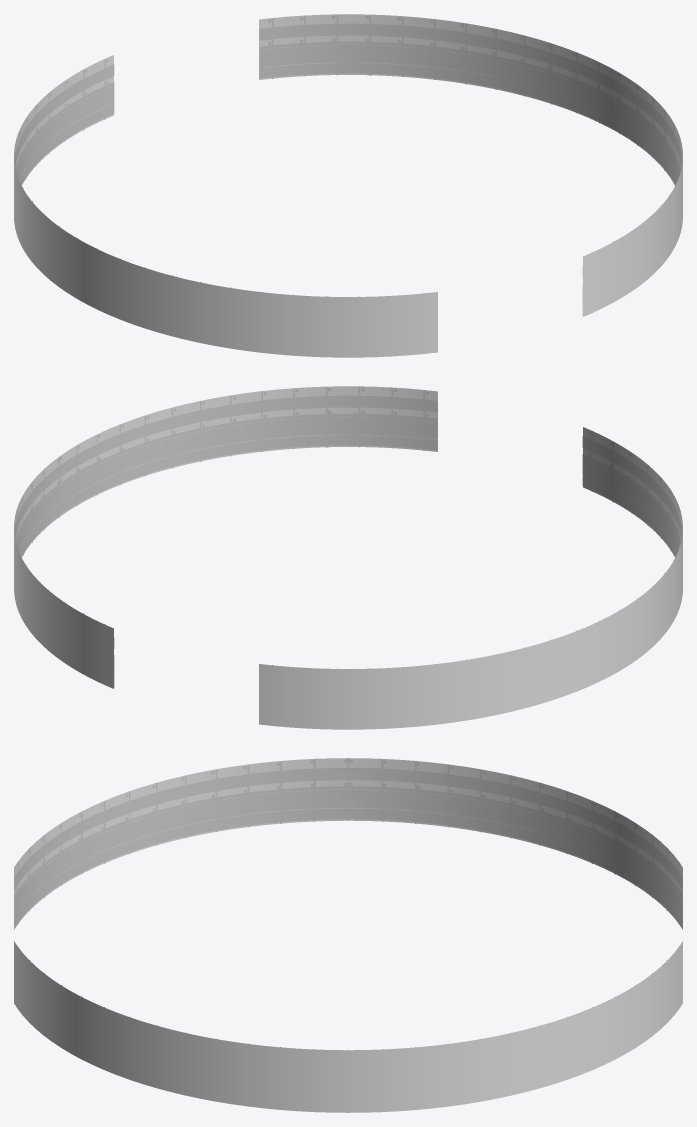
The model's file is CircleArea.fbx.
The picture shows the model from 3 angles, top to bottom: view 1: azimuth 30°, elevation 25°; view 2: azimuth 150°, elevation 25°; view 3: azimuth 270°, elevation 25°; orthographic projection. The views are drawn at different scales.
Visible parts, largest first — view 1: Cylinder, StylizedHardSurface_TrimDecals_006.006, StylizedHardSurface_TrimDecals_007.003, StylizedHardSurface_TrimDecals_010.003, StylizedHardSurface_Panels_002.084, StylizedHardSurface_Panels_008.003; view 2: Cylinder, StylizedHardSurface_TrimDecals_006.006, StylizedHardSurface_TrimDecals_007.003, StylizedHardSurface_TrimDecals_010.003, StylizedHardSurface_Panels_002.084, StylizedHardSurface_Panels_008.003; view 3: Cylinder, StylizedHardSurface_TrimDecals_006.006, StylizedHardSurface_TrimDecals_007.003, StylizedHardSurface_TrimDecals_010.003, StylizedHardSurface_Panels_002.084, StylizedHardSurface_Panels_008.003.
Part boxes in pixels (left/top/right/bottom): Cylinder: left=14, top=14, right=682, bottom=357; StylizedHardSurface_TrimDecals_006.006: left=16, top=45, right=680, bottom=303; StylizedHardSurface_TrimDecals_007.003: left=14, top=23, right=682, bottom=276; StylizedHardSurface_TrimDecals_010.003: left=19, top=63, right=677, bottom=314; StylizedHardSurface_Panels_002.084: left=17, top=14, right=679, bottom=296; StylizedHardSurface_Panels_008.003: left=16, top=41, right=680, bottom=286; Cylinder: left=14, top=386, right=682, bottom=729; StylizedHardSurface_TrimDecals_006.006: left=16, top=417, right=680, bottom=675; StylizedHardSurface_TrimDecals_007.003: left=14, top=395, right=682, bottom=648; StylizedHardSurface_TrimDecals_010.003: left=19, top=435, right=677, bottom=686; StylizedHardSurface_Panels_002.084: left=17, top=386, right=679, bottom=668; StylizedHardSurface_Panels_008.003: left=16, top=413, right=680, bottom=658; Cylinder: left=14, top=758, right=682, bottom=1112; StylizedHardSurface_TrimDecals_006.006: left=14, top=790, right=682, bottom=916; StylizedHardSurface_TrimDecals_007.003: left=14, top=768, right=682, bottom=888; StylizedHardSurface_TrimDecals_010.003: left=14, top=808, right=682, bottom=927; StylizedHardSurface_Panels_002.084: left=18, top=758, right=678, bottom=1050; StylizedHardSurface_Panels_008.003: left=14, top=786, right=682, bottom=898.
Bounding box in the file's own units: 4000 × 400 × 3872.
